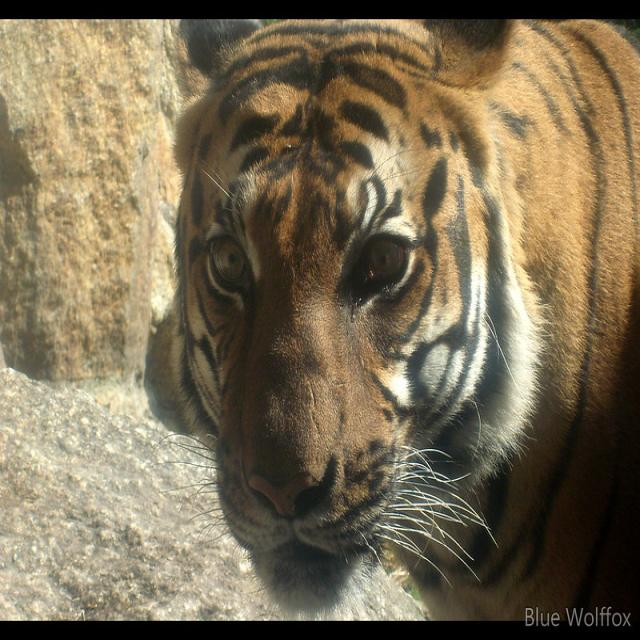Tiger: (166, 18, 639, 606)
